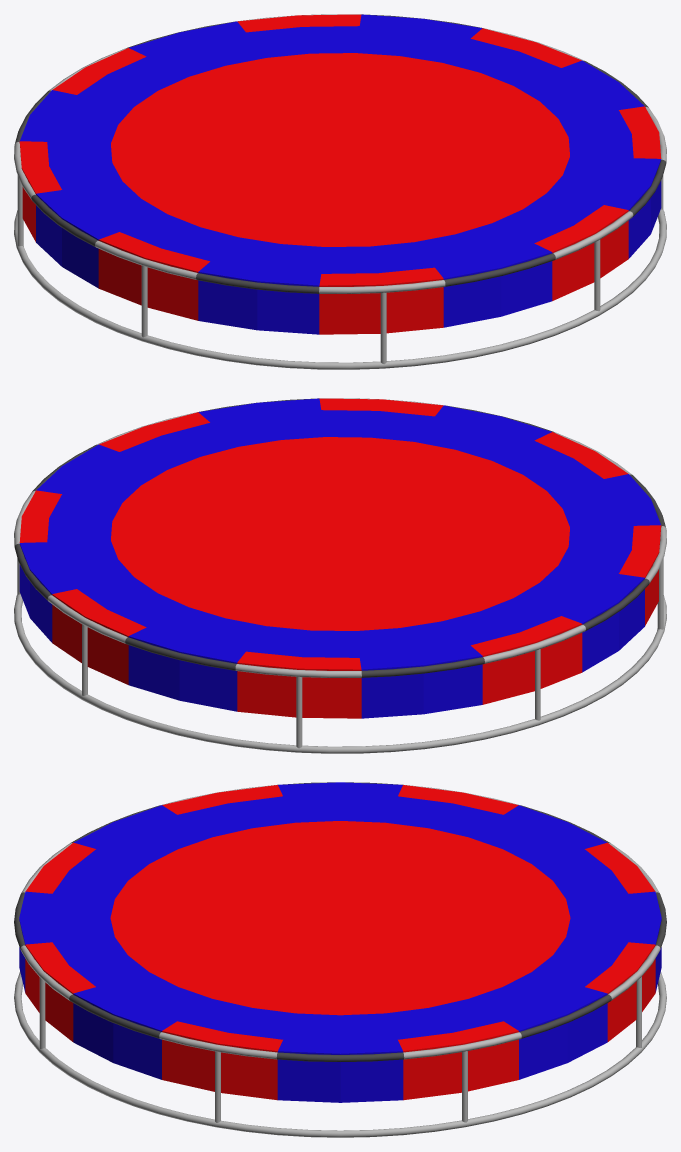
File: Trampoline002.fbx
3 renders of one model, top to bottom at view 1: azimuth 30°, elevation 25°; view 2: azimuth 150°, elevation 25°; view 3: azimuth 270°, elevation 25°, orthographic.
Visible parts, largest first — view 1: BouncingSurface, Railing001, Railing002, Railing003; view 2: BouncingSurface, Railing001, Railing002, Railing003; view 3: BouncingSurface, Railing001, Railing002, Railing003.
Boxes of the visible parts, <box> form: BouncingSurface: <box>19,14,661,334</box>; Railing001: <box>14,14,666,293</box>; Railing002: <box>14,209,666,369</box>; Railing003: <box>17,175,663,364</box>; BouncingSurface: <box>19,398,661,718</box>; Railing001: <box>14,398,666,677</box>; Railing002: <box>14,594,666,753</box>; Railing003: <box>17,558,663,748</box>; BouncingSurface: <box>19,782,661,1102</box>; Railing001: <box>14,782,666,1061</box>; Railing002: <box>14,971,666,1137</box>; Railing003: <box>39,976,641,1122</box>.
Bounding box in the file's own units: 222 × 31.2 × 222.
